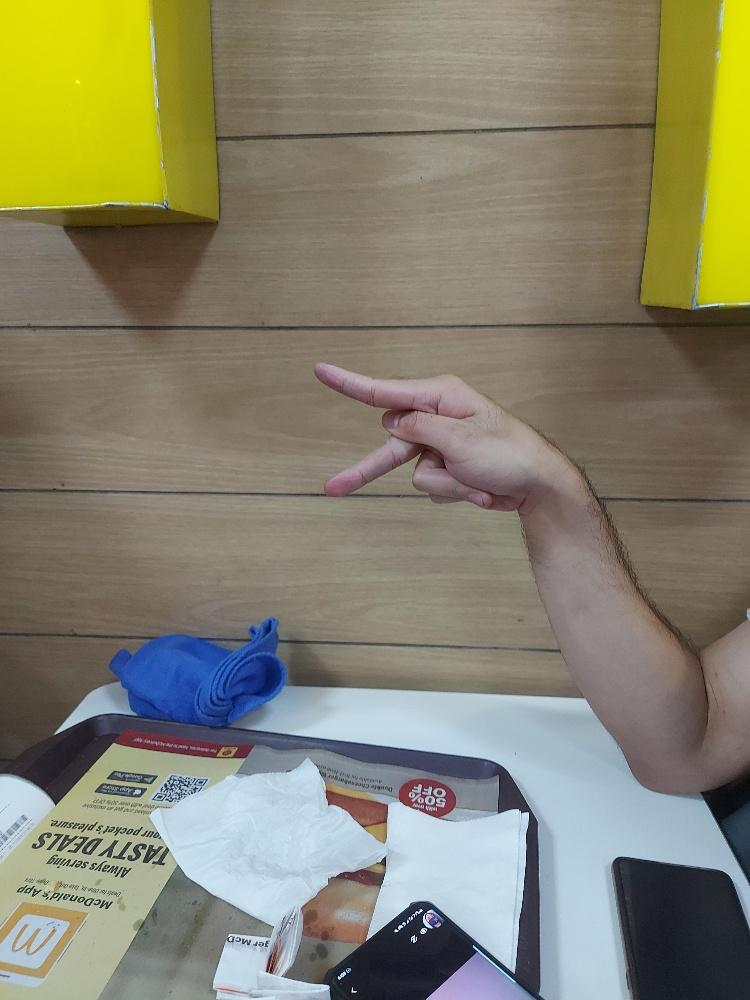p: (308, 356, 561, 513)
